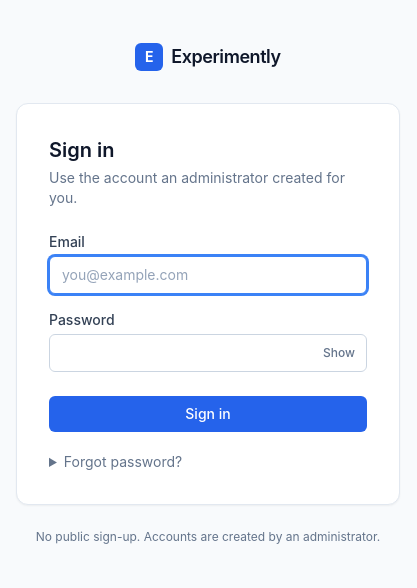
it: LoginPage › shows the lockout detail on 423
This screenshot has width=417, height=588.
In the field labelled "Email": (208, 275) [49, 256, 367, 294], type "admin@demo.com"
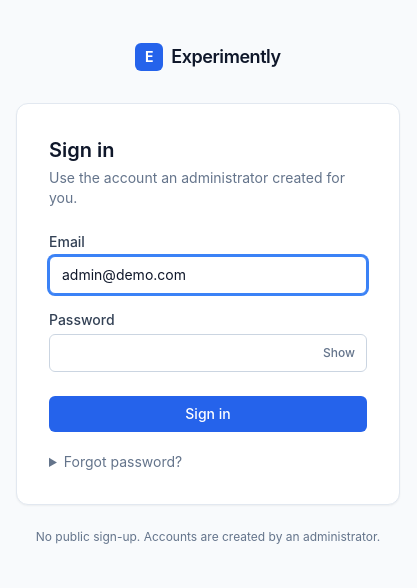
In the password field labelled "Password": (208, 353) [49, 334, 367, 372], type "Demo1234!"
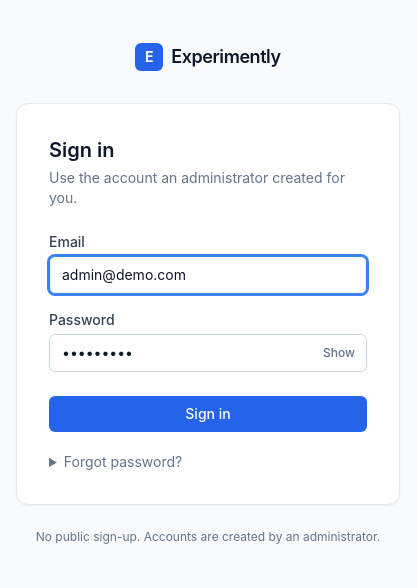
Click the button "Sign in": click(208, 414) [49, 396, 367, 432]
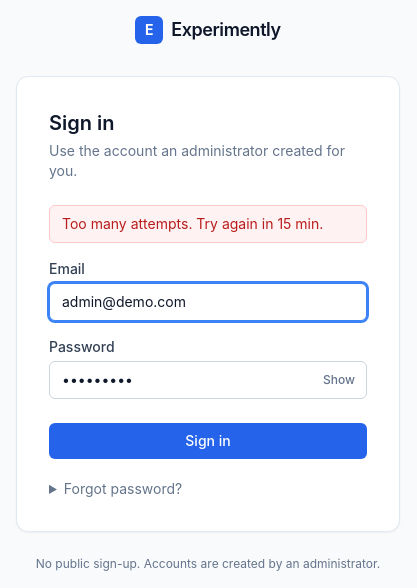
Check: the message reads "Too many attempts. Try again in 15 min.", box [62, 215, 323, 232]
